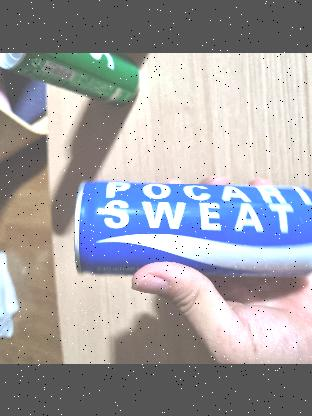Can: (75, 180, 312, 280)
